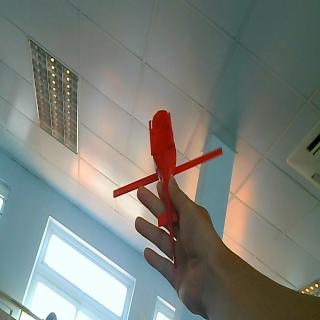Helicopter: (110, 108, 223, 227)
